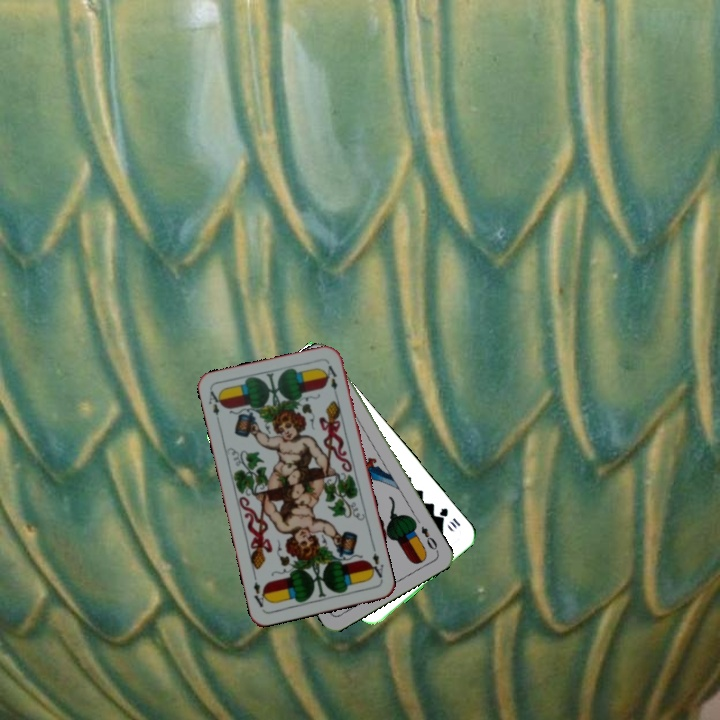EA: (204, 387, 225, 427), (365, 549, 386, 583)
EO: (417, 522, 441, 555)
G10: (435, 504, 463, 532)
